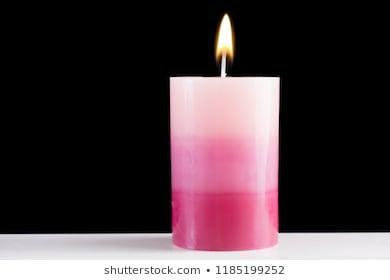fire: (213, 10, 235, 73)
